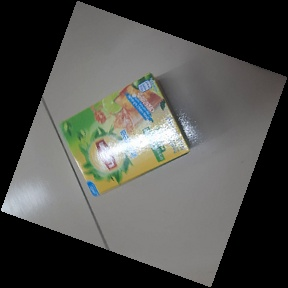LipTon: (54, 72, 191, 203)
